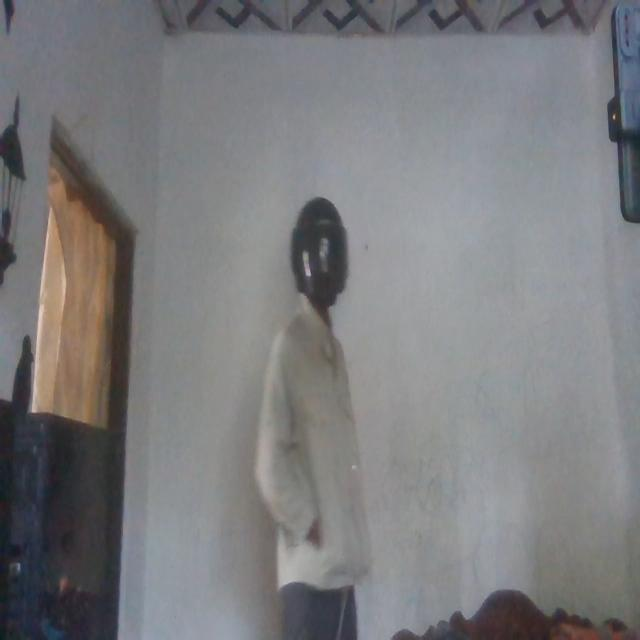Helmet_Wearer: (280, 191, 353, 315)
Jacket_Wearer: (250, 304, 370, 580)
Person: (252, 187, 370, 640)
